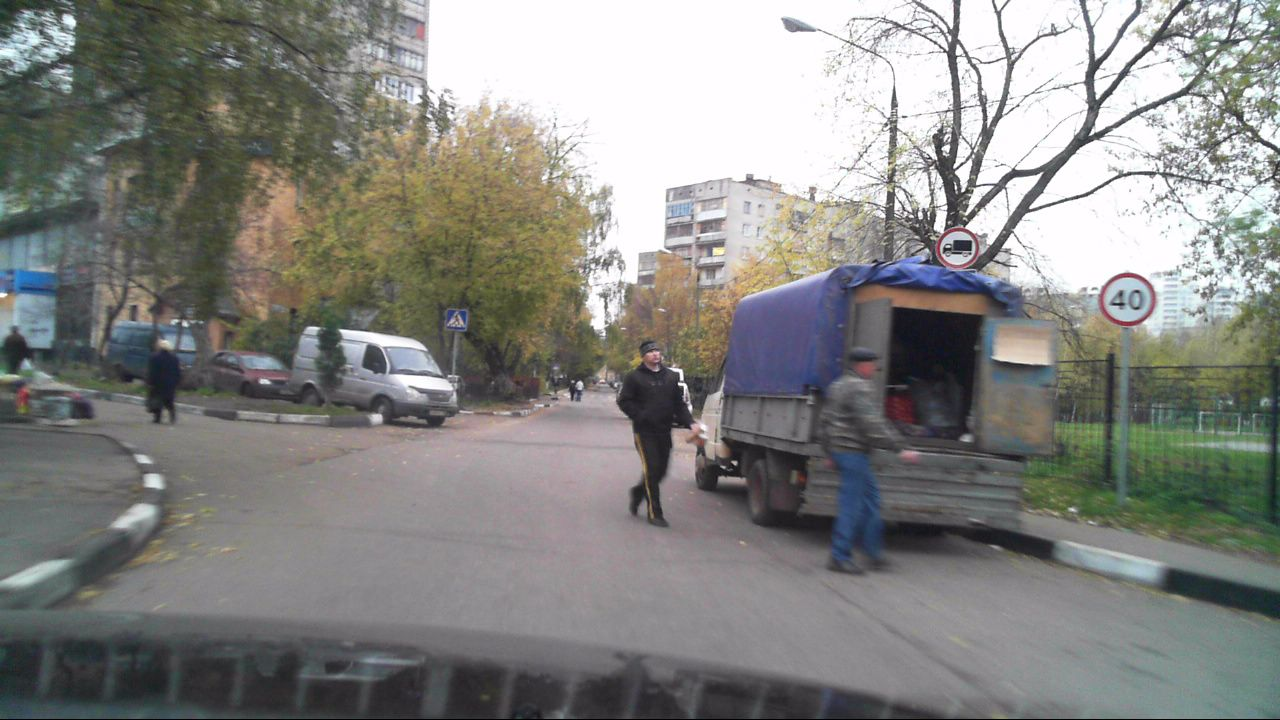speed_warning_40: (1098, 273, 1154, 326)
